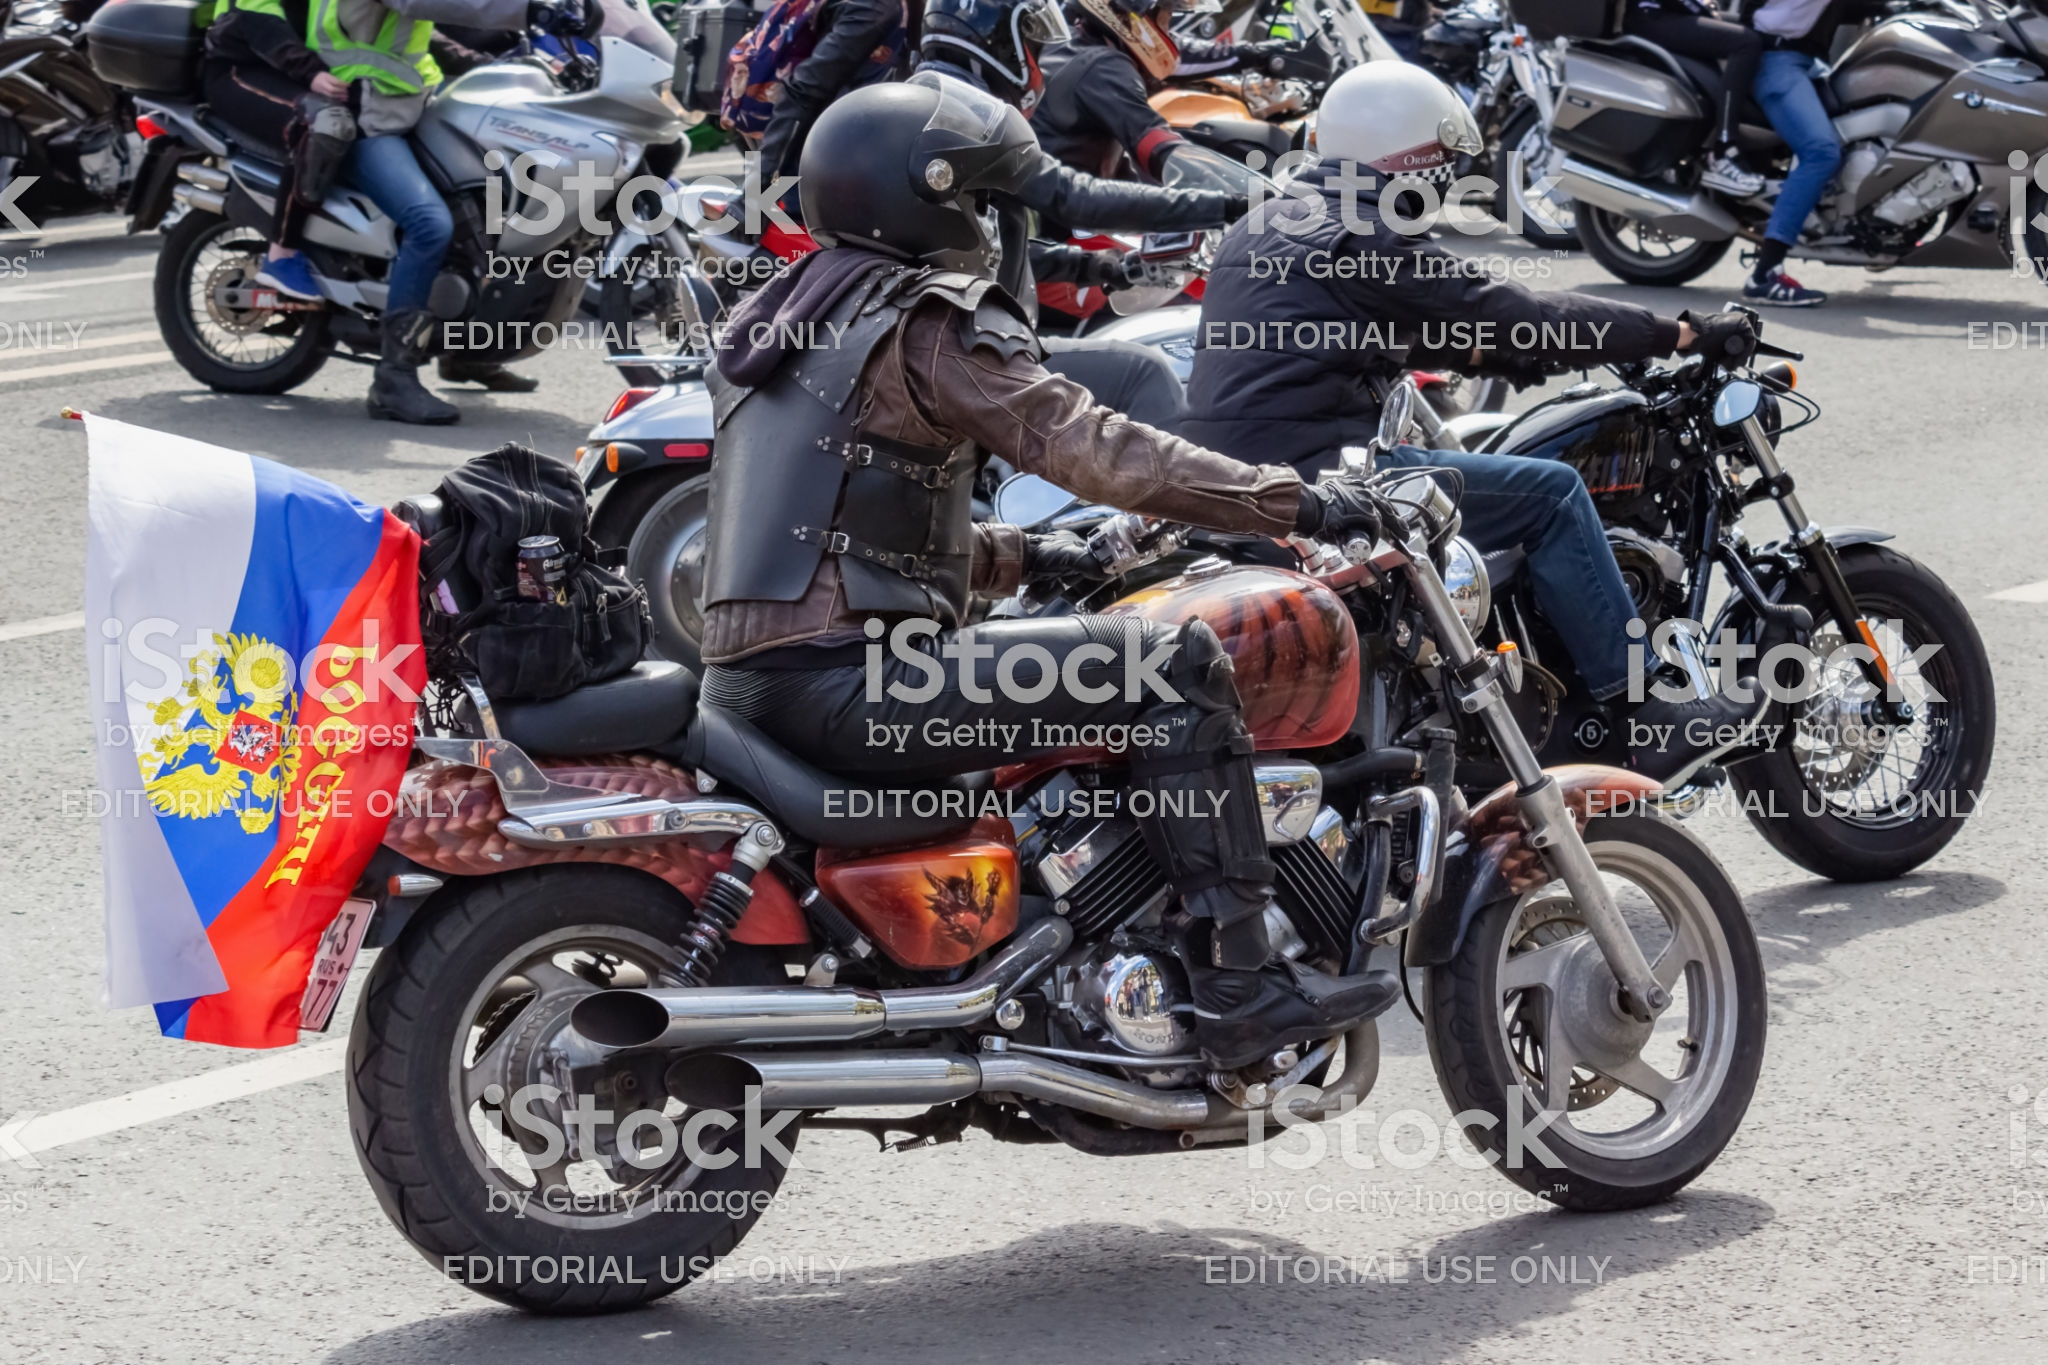helmet: (792, 62, 1040, 270)
